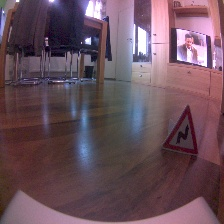vorsicht: (158, 103, 201, 156)
